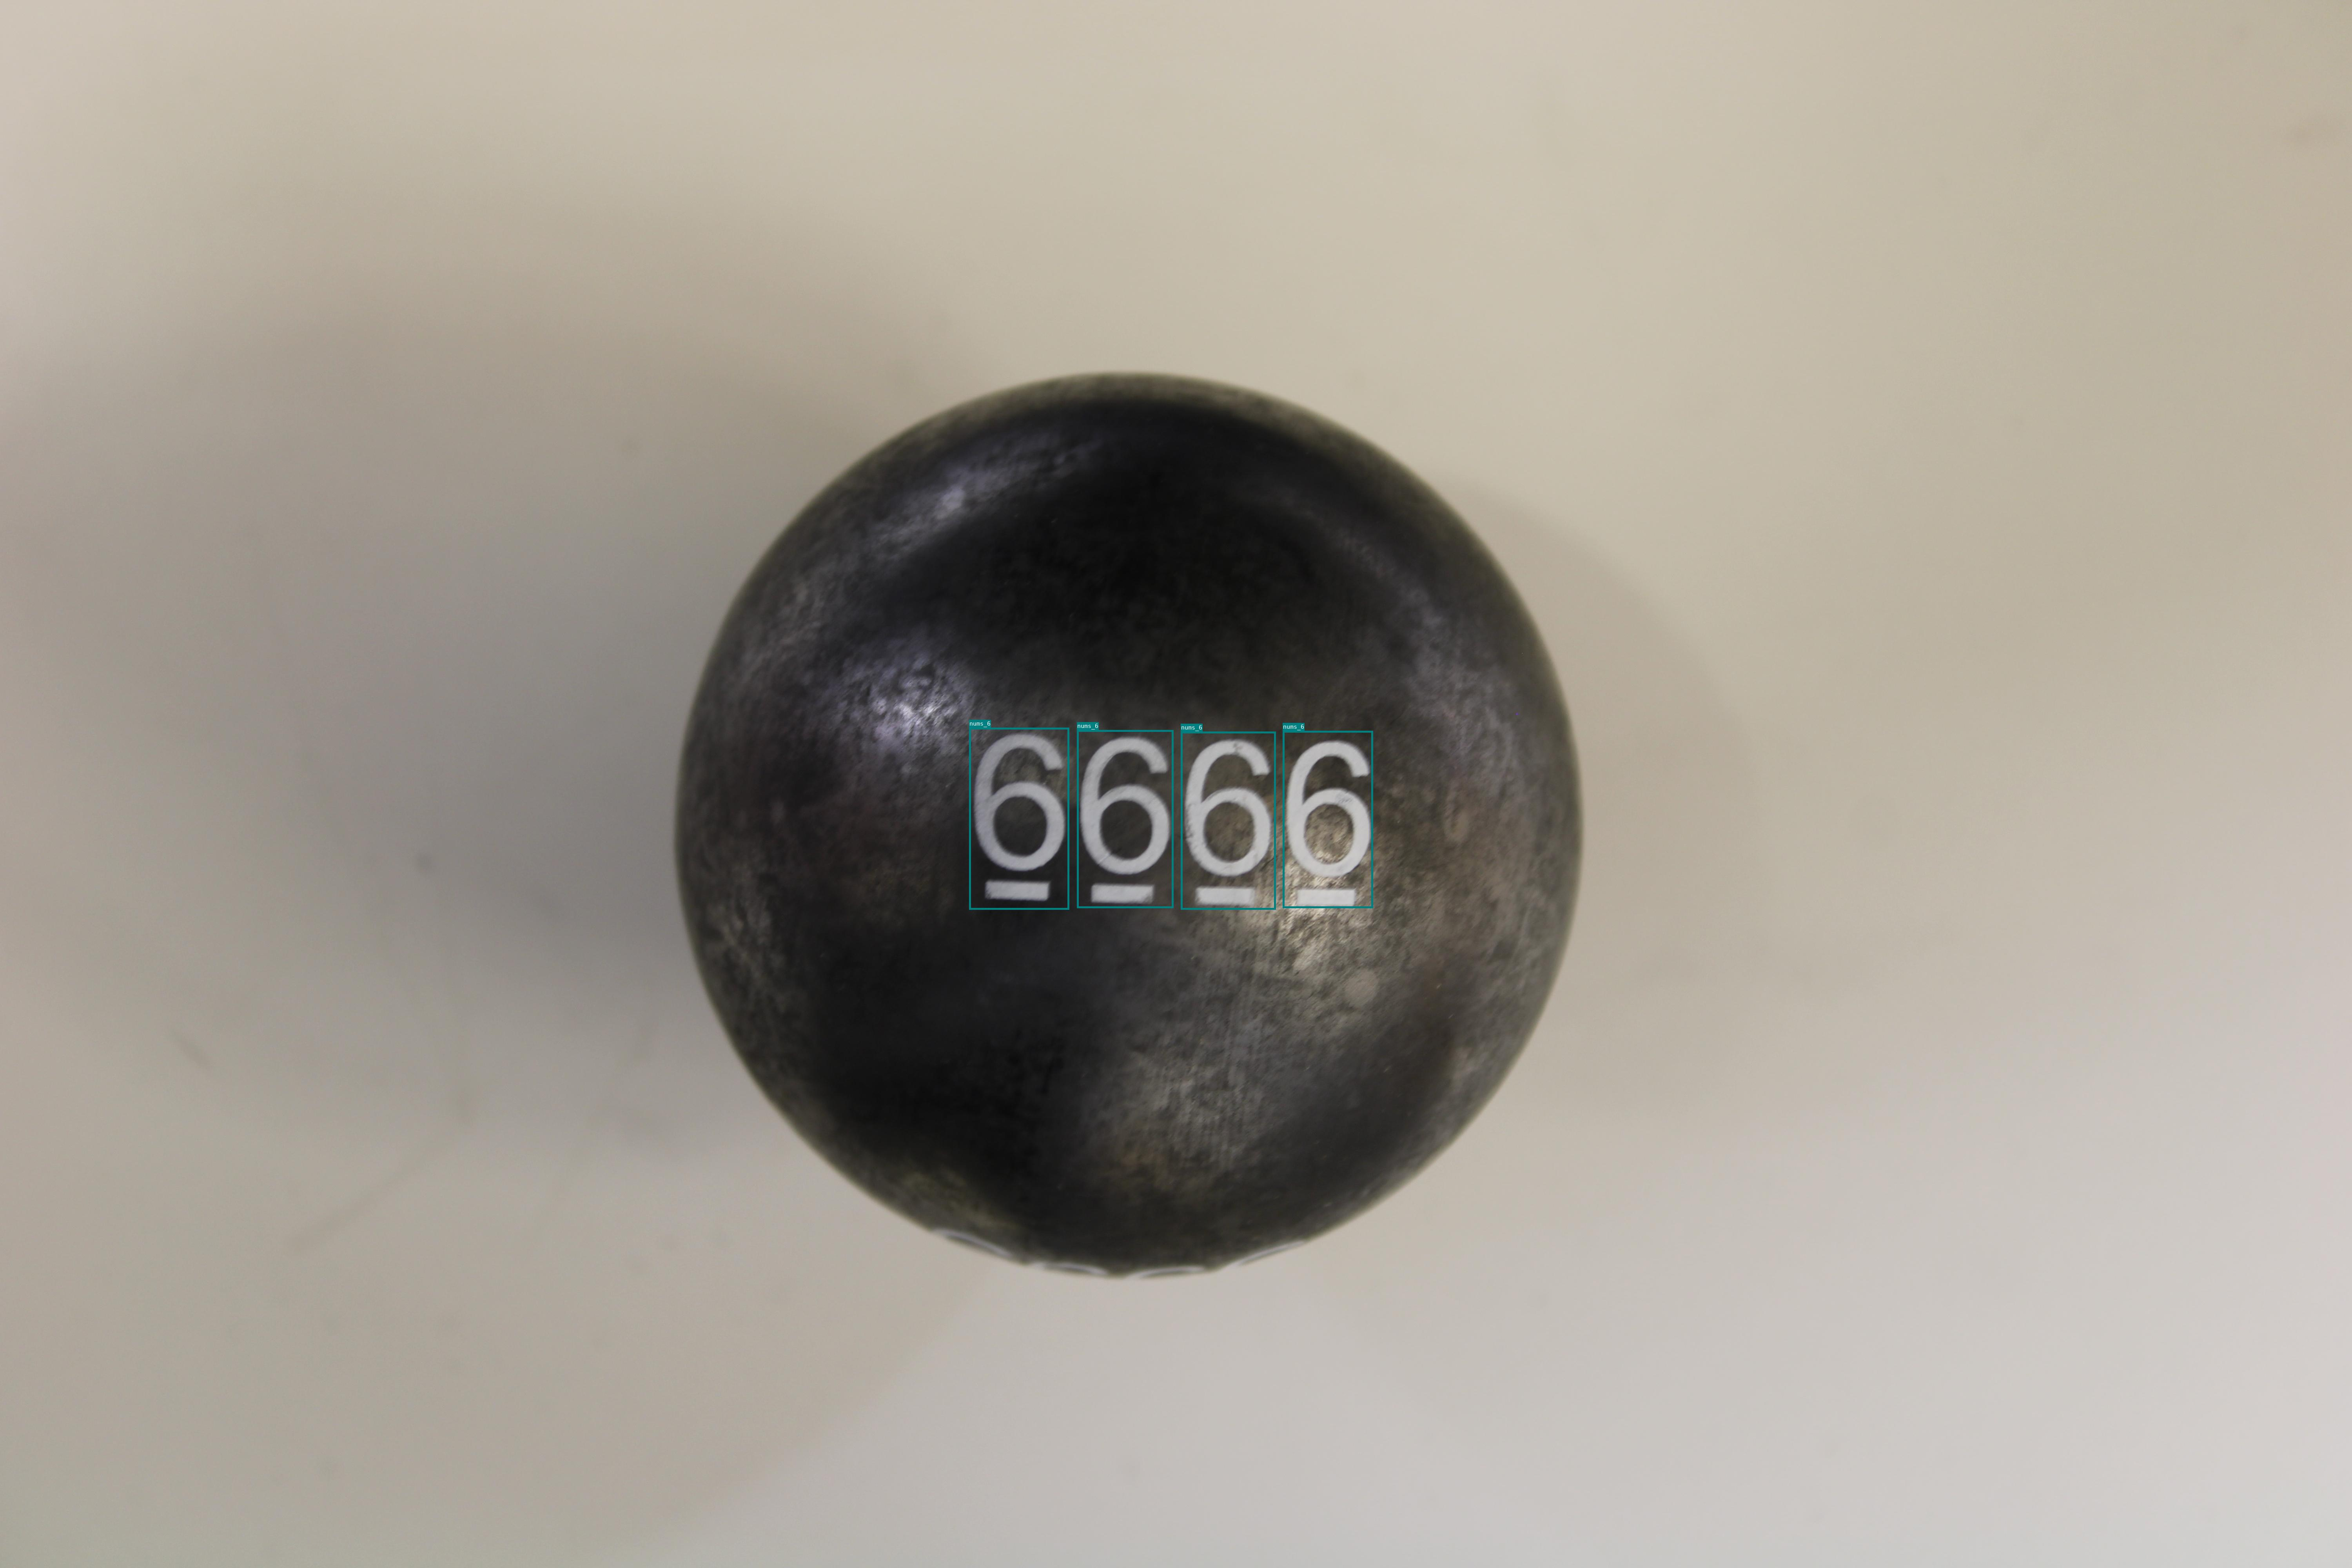nums_6: (970, 728, 1069, 910), (1076, 730, 1172, 908), (1181, 732, 1276, 910), (1283, 732, 1372, 908)
